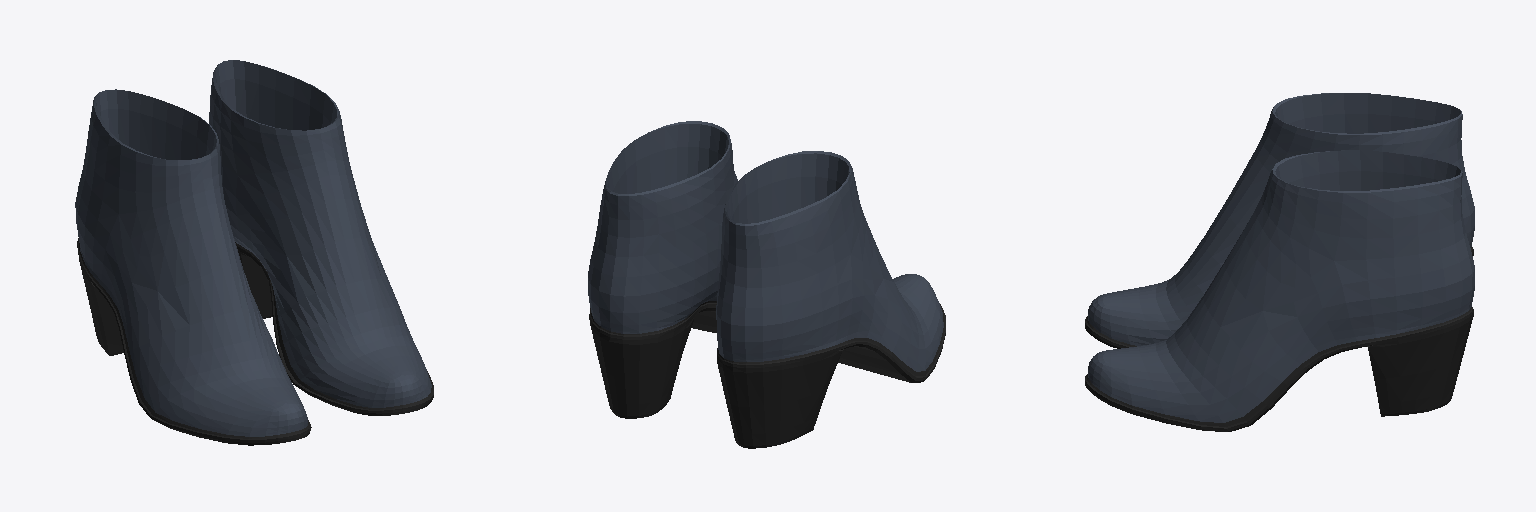
Rendered from bootie.obj.
The picture shows the model from 3 angles: view 1: azimuth 30°, elevation 25°; view 2: azimuth 150°, elevation 25°; view 3: azimuth 270°, elevation 25°; orthographic projection.
Visible parts, largest first — view 1: Boot.001_Cylinder.001, Boot_Cylinder.002; view 2: Boot.001_Cylinder.001, Boot_Cylinder.002; view 3: Boot_Cylinder.002, Boot.001_Cylinder.001.
Part boxes in pixels (x1,y1,x2,y2): Boot.001_Cylinder.001: (75,89,311,445); Boot_Cylinder.002: (209,60,433,415); Boot.001_Cylinder.001: (716,151,945,448); Boot_Cylinder.002: (588,121,737,418); Boot_Cylinder.002: (1085,150,1474,431); Boot.001_Cylinder.001: (1085,93,1474,348).
Bounding box in the file's own units: 20.99 × 17.45 × 26.8.